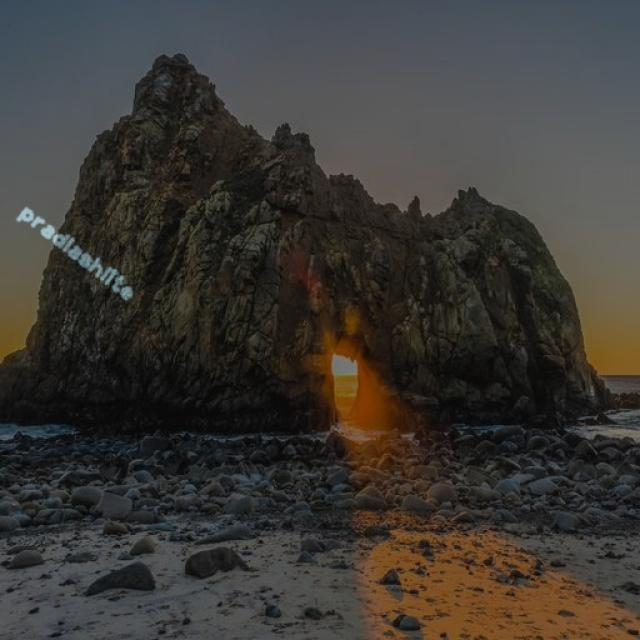watermark: (11, 199, 144, 307)
